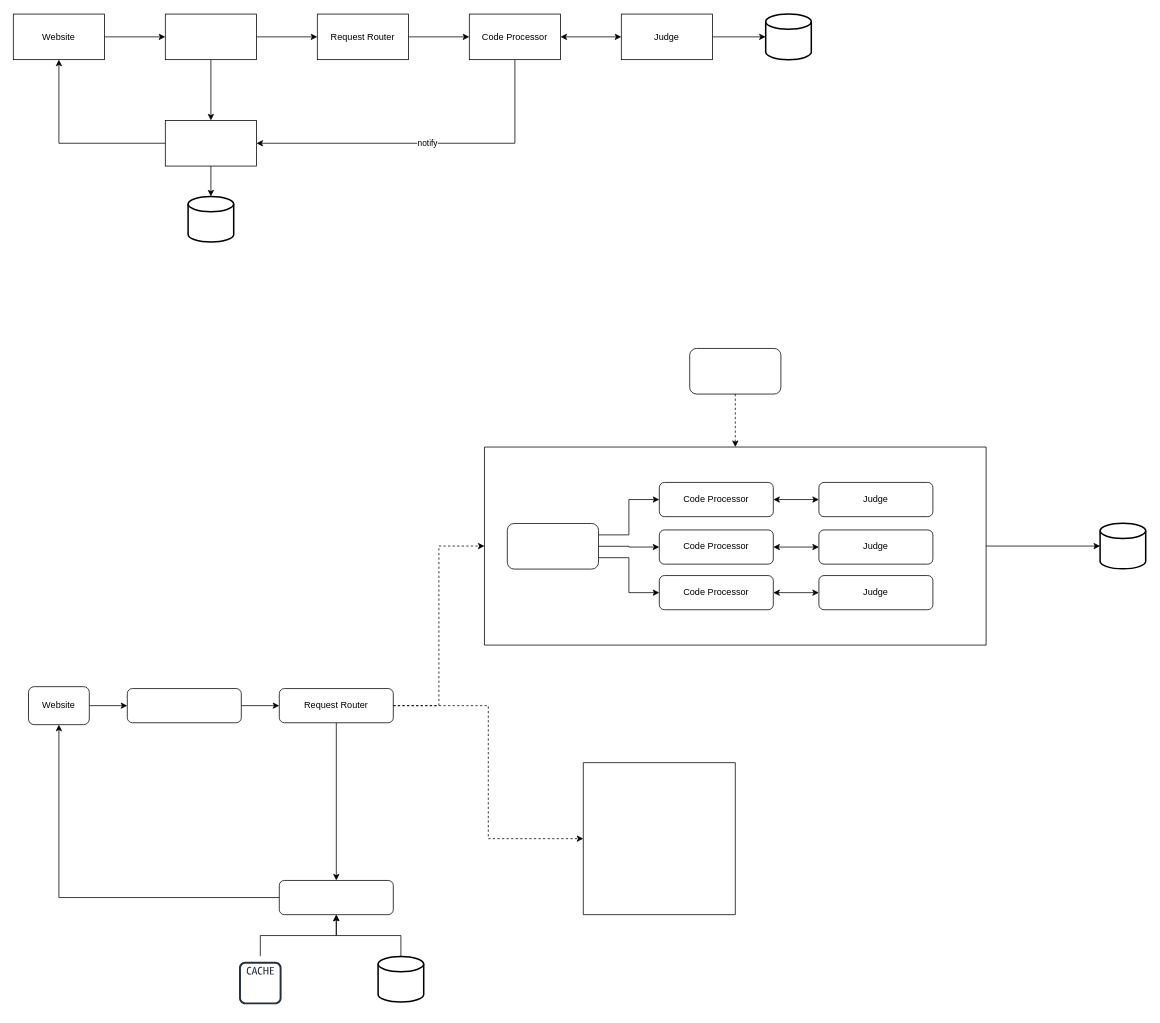
Some shapes in this 1160 by 1023 pixel diagram are drawn without their labels. Each missing label, with the centre of its shape:
"Code Comsumer" belongs at point (552, 546).
"Monitor" belongs at point (735, 371).
"Request Procesor" belongs at point (184, 705).
"Request Processor" belongs at point (210, 36).
"Response Generator" belongs at point (336, 897).
"Response Processor" belongs at point (210, 143).
